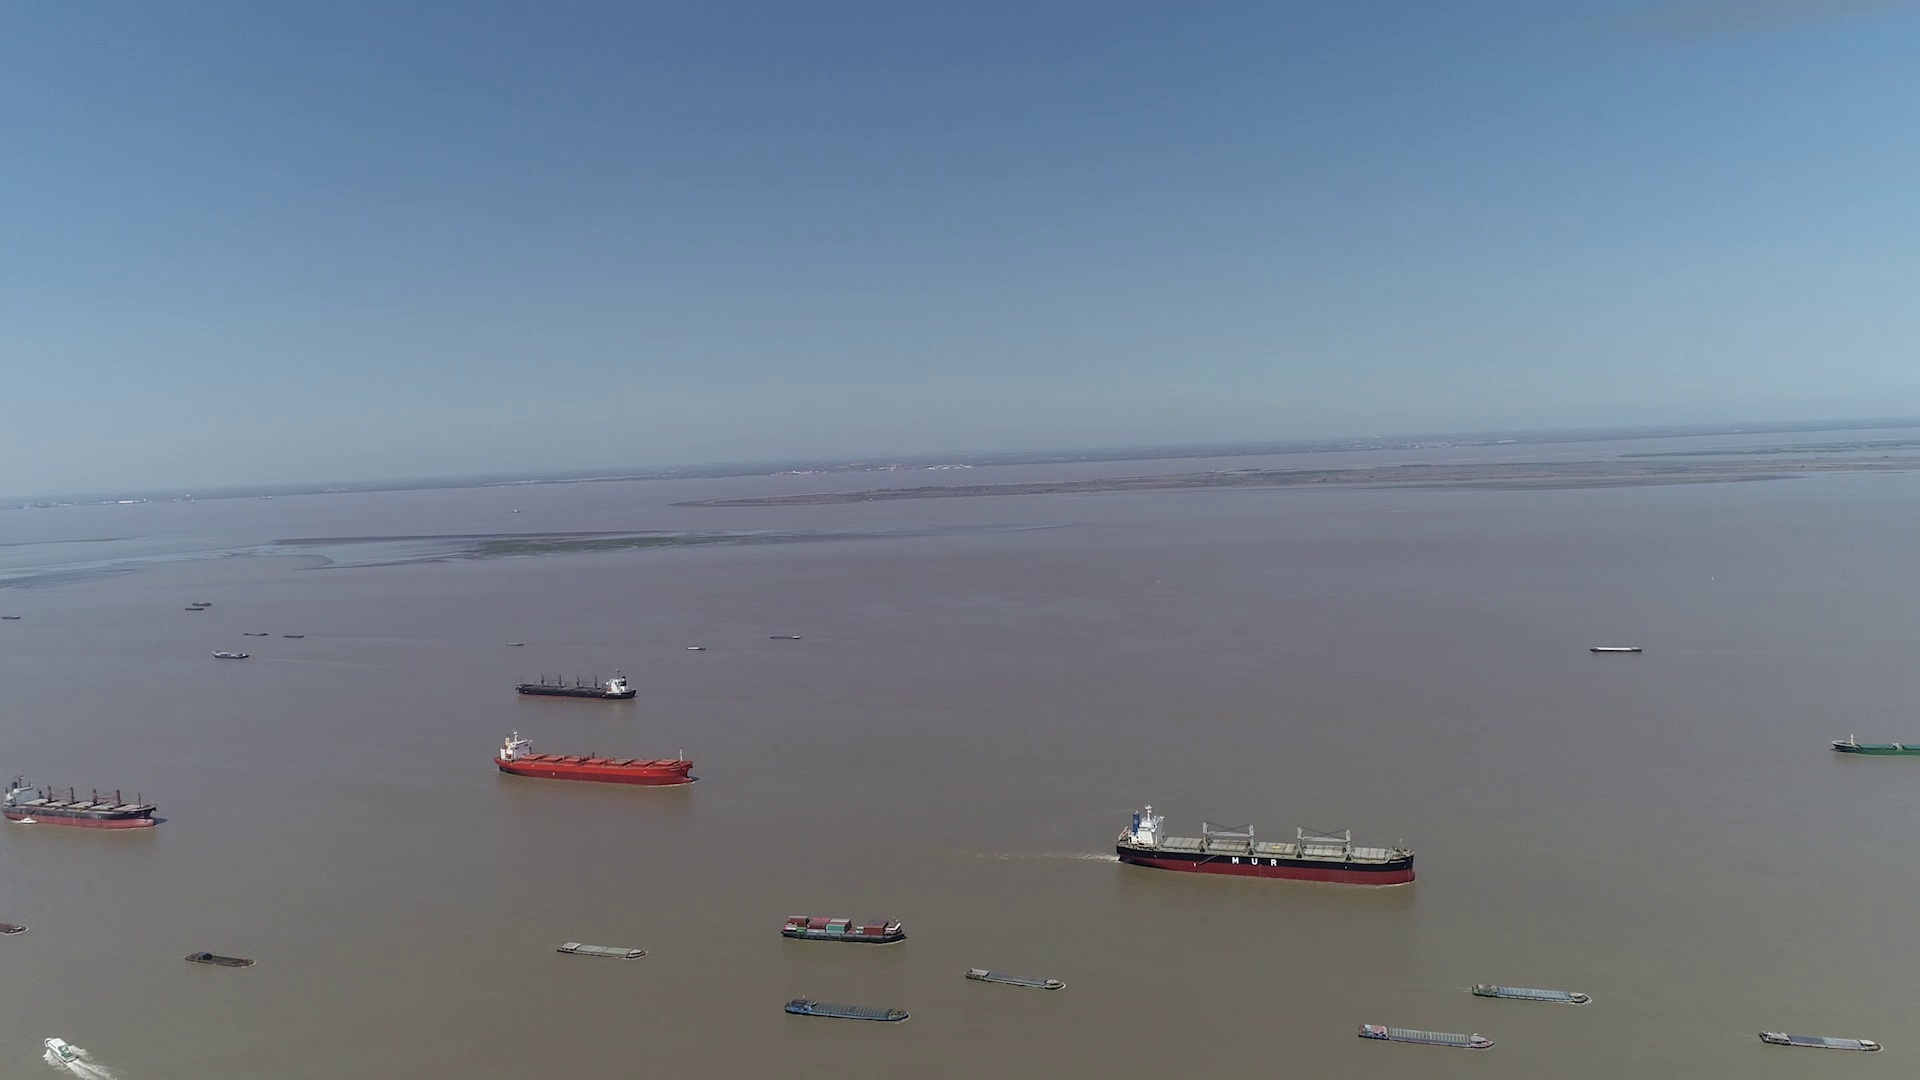ship: (1116, 803, 1416, 886), (495, 729, 694, 786), (0, 773, 160, 832), (781, 913, 906, 944), (1356, 1021, 1494, 1048), (512, 669, 636, 698), (785, 996, 913, 1021), (1756, 1029, 1882, 1052), (1470, 980, 1592, 1004), (965, 967, 1064, 990), (1832, 732, 1919, 757), (559, 942, 647, 960), (40, 1036, 84, 1063), (186, 951, 255, 968), (212, 649, 251, 659), (1592, 646, 1640, 654), (0, 920, 26, 935)
